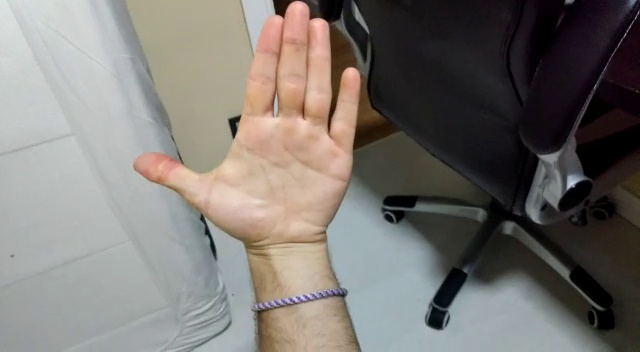Palm: (130, 1, 363, 261)
